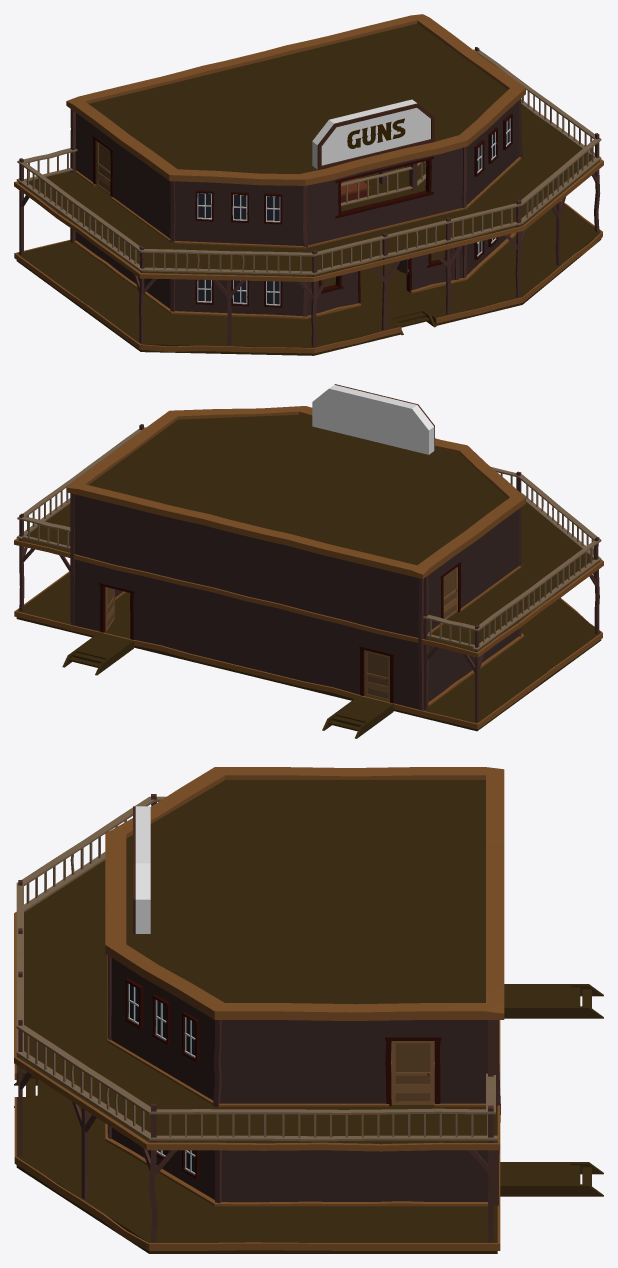
Rendered from Guns_Shop.fbx.
The picture shows the model from 3 angles, top to bottom: view 1: azimuth 30°, elevation 25°; view 2: azimuth 150°, elevation 25°; view 3: azimuth 270°, elevation 25°; orthographic projection. The views are drawn at different scales.
Parts seen in each view (by area): view 1: Shop_Building.003; view 2: Shop_Building.003; view 3: Shop_Building.003.
Part boxes in pixels (x1=…): Shop_Building.003: x1=14, y1=14, x2=603, y2=355; Shop_Building.003: x1=14, y1=384, x2=603, y2=738; Shop_Building.003: x1=14, y1=767, x2=603, y2=1253.
Bounding box in the file's own units: 2468 × 953 × 1933.
